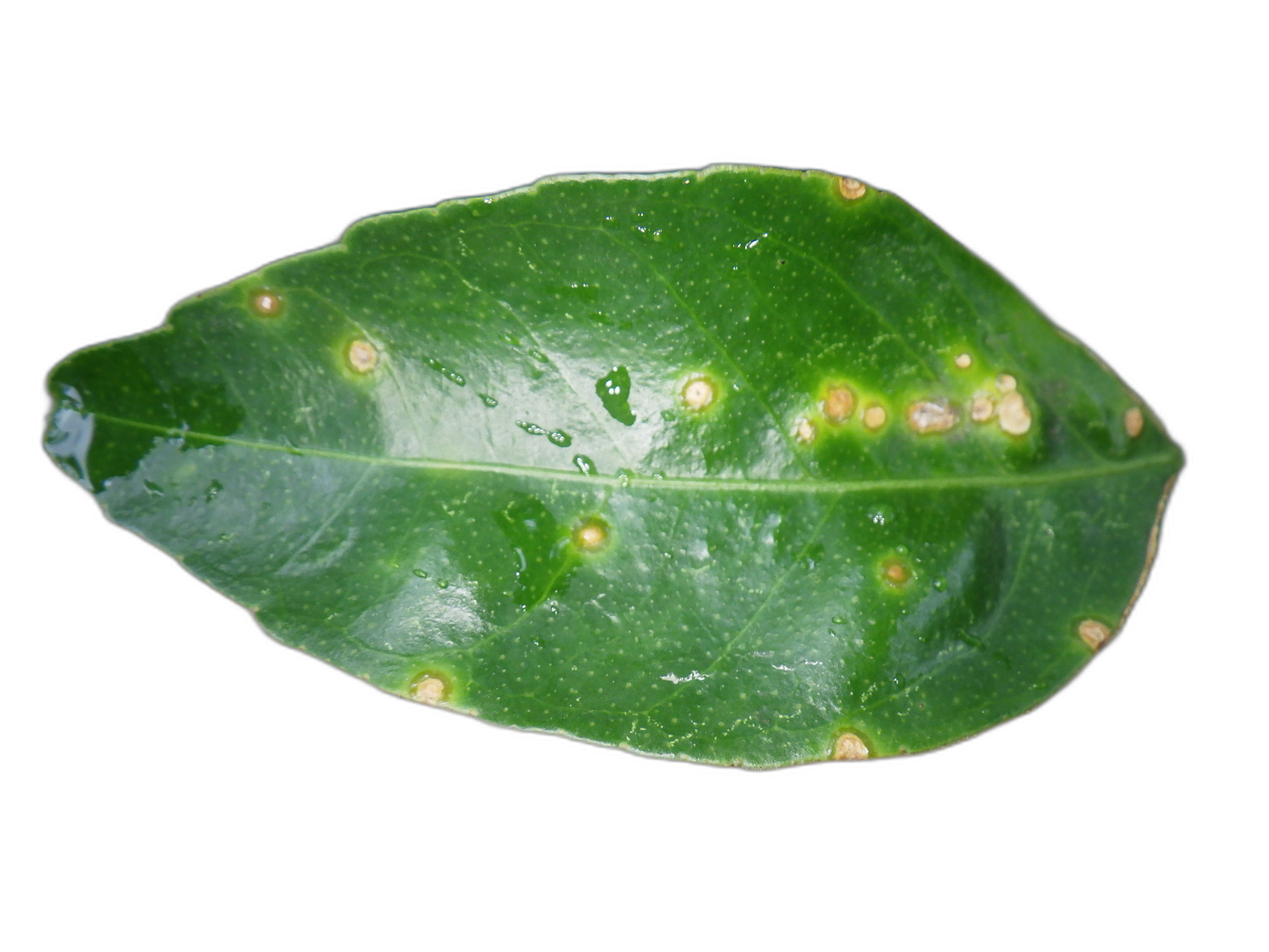Canker: (995, 372, 1034, 439), (904, 400, 961, 434), (819, 386, 859, 423), (569, 518, 610, 552), (411, 674, 451, 705), (830, 731, 870, 759), (880, 557, 913, 588), (348, 340, 378, 372), (952, 350, 982, 382), (683, 379, 716, 408), (969, 392, 995, 425), (251, 289, 280, 317), (1078, 621, 1108, 647), (836, 177, 867, 201), (1121, 406, 1143, 438), (861, 404, 887, 431), (795, 419, 817, 442)
